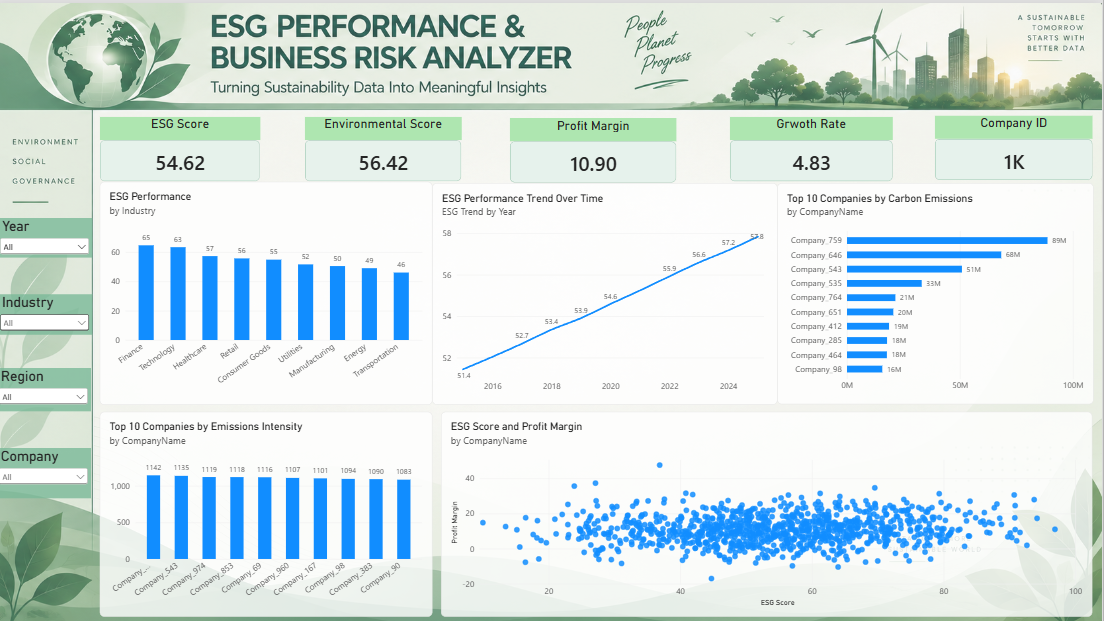

This screenshot's page, from the dashboard's own definition file:
{"tool":"powerbi","page":{"name":"Page 1","canvas":[1900,1072],"ordinal":0},"visuals":[{"type":"cardVisual","title":"ESG Score","fields":{"Data":["Avg(company_esg_financial_dataset.ESG_Overall)"]},"box":[177.7,194.7,275.8,111.2],"z":0},{"type":"cardVisual","title":"Environmental Score ","fields":{"Data":["Avg(company_esg_financial_dataset.ESG_Environmental)"]},"box":[531.1,194.7,269.4,111.2],"z":1000},{"type":"cardVisual","title":"Profit Margin ","fields":{"Data":["Avg(company_esg_financial_dataset.ProfitMargin)"]},"box":[882.3,196.8,286.5,111.2],"z":2000},{"type":"cardVisual","title":"Grwoth Rate ","fields":{"Data":["Avg(company_esg_financial_dataset.GrowthRate)"]},"box":[1261,194.7,280.1,111.2],"z":3000},{"type":"cardVisual","title":"Company ID","fields":{"Data":["Count(company_esg_financial_dataset.CompanyID)"]},"box":[1612.2,192.5,271.5,111.2],"z":4000},{"type":"clusteredColumnChart","fields":{"Category":["company_esg_financial_dataset.Industry"],"Y":["Avg(company_esg_financial_dataset.ESG_Overall)"]},"box":[177.7,306.8,571.3,383],"z":5000},{"type":"lineChart","title":"ESG Performance Trend Over Time","fields":{"Category":["company_esg_financial_dataset.Year"],"Y":["Avg(company_esg_financial_dataset.ESG_Overall)"]},"box":[749,308.9,592.4,380.8],"z":6000},{"type":"clusteredBarChart","fields":{"Category":["company_esg_financial_dataset.CompanyName"],"Y":["Avg(company_esg_financial_dataset.CarbonEmissions)"]},"box":[1341.5,309.1,543,379.9],"z":7000},{"type":"clusteredColumnChart","fields":{"Category":["company_esg_financial_dataset.CompanyName"],"Y":["Avg(company_esg_financial_dataset.Emissions Intensity)"]},"box":[178.2,701.9,571,352],"z":8000},{"type":"scatterChart","fields":{"Category":["company_esg_financial_dataset.CompanyName"],"X":["Avg(company_esg_financial_dataset.ESG_Overall)"],"Y":["Avg(company_esg_financial_dataset.ProfitMargin)"]},"box":[764.1,701.9,1118.3,352],"z":9000},{"type":"slicer","fields":{"Values":["company_esg_financial_dataset.Year"]},"box":[2.1,368.2,162.9,67.7],"z":10000},{"type":"slicer","fields":{"Values":["company_esg_financial_dataset.Industry"]},"box":[2.1,499.3,162.9,69.8],"z":11000},{"type":"slicer","fields":{"Values":["company_esg_financial_dataset.Region"]},"box":[0,626.3,162.9,74.1],"z":12000},{"type":"slicer","fields":{"Values":["company_esg_financial_dataset.CompanyName"]},"box":[0,763.8,162.9,86.7],"z":13000}]}

Visuals, with their boxes in screenshot pixels (x1, y1, x2, y2), scaled from the page's 1900x1072 canvas onto the 1105x621 screenshot:
"ESG Score" cardVisual: <box>103,113,264,177</box>
"Environmental Score " cardVisual: <box>309,113,466,177</box>
"Profit Margin " cardVisual: <box>513,114,680,178</box>
"Grwoth Rate " cardVisual: <box>733,113,896,177</box>
"Company ID" cardVisual: <box>938,112,1096,176</box>
clusteredColumnChart - company_esg_financial_dataset.Industry x Avg(company_esg_financial_dataset.ESG_Overall): <box>103,178,436,400</box>
"ESG Performance Trend Over Time" lineChart: <box>436,179,780,400</box>
clusteredBarChart - company_esg_financial_dataset.CompanyName x Avg(company_esg_financial_dataset.CarbonEmissions): <box>780,179,1096,399</box>
clusteredColumnChart - company_esg_financial_dataset.CompanyName x Avg(company_esg_financial_dataset.Emissions Intensity): <box>104,407,436,611</box>
scatterChart - company_esg_financial_dataset.CompanyName x Avg(company_esg_financial_dataset.ESG_Overall): <box>444,407,1095,611</box>
slicer - company_esg_financial_dataset.Year: <box>1,213,96,253</box>
slicer - company_esg_financial_dataset.Industry: <box>1,289,96,330</box>
slicer - company_esg_financial_dataset.Region: <box>0,363,95,406</box>
slicer - company_esg_financial_dataset.CompanyName: <box>0,442,95,493</box>
